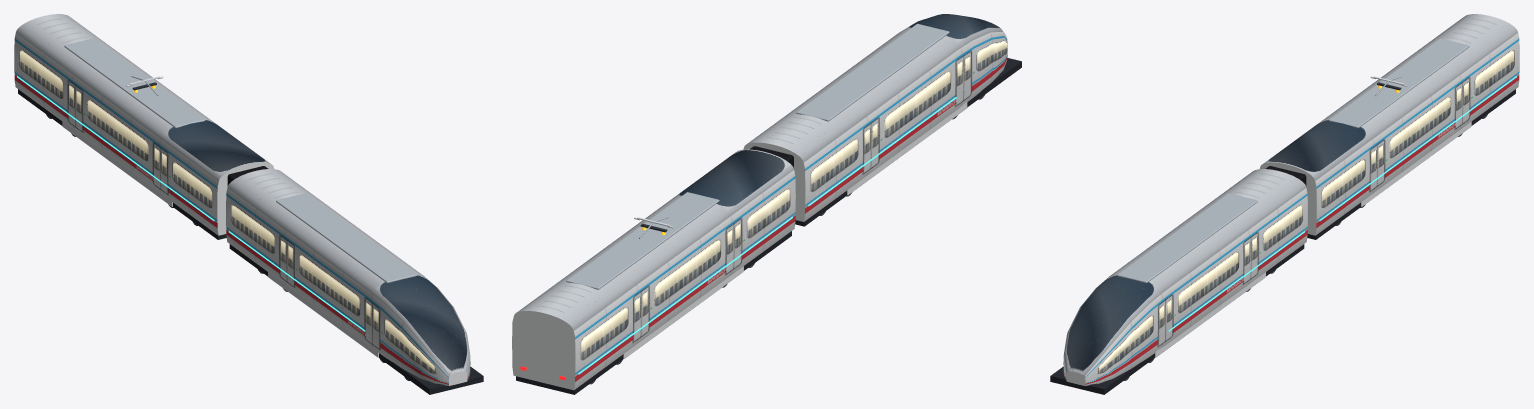
Rendered from train_modern.glb.
3 views of the same model, side by side, from view 1: azimuth 30°, elevation 25°; view 2: azimuth 150°, elevation 25°; view 3: azimuth 330°, elevation 25° (orthographic). The views are drawn at different scales.
Visible parts, largest first — view 1: Train_modern_2_TrainSide_modern, Train_modern_2_TrainRoof_modern, Train_modern_2_TrainMetal, Train_modern_2_TrainBody_modern, Train_modern_2_TrainDark, Train_modern_2_TrainAccent_modern; view 2: Train_modern_2_TrainSide_modern, Train_modern_2_TrainRoof_modern, Train_modern_2_TrainMetal, Train_modern_2_TrainBody_modern, Train_modern_2_TrainDark, Train_modern_2_TrainAccent_modern; view 3: Train_modern_2_TrainSide_modern, Train_modern_2_TrainRoof_modern, Train_modern_2_TrainMetal, Train_modern_2_TrainBody_modern, Train_modern_2_TrainDark, Train_modern_2_TrainAccent_modern.
Part boxes in pixels (bbox=[...]): Train_modern_2_TrainSide_modern: bbox=[14, 33, 470, 385]; Train_modern_2_TrainRoof_modern: bbox=[16, 14, 469, 375]; Train_modern_2_TrainMetal: bbox=[64, 38, 416, 283]; Train_modern_2_TrainBody_modern: bbox=[62, 121, 467, 385]; Train_modern_2_TrainDark: bbox=[18, 89, 483, 394]; Train_modern_2_TrainAccent_modern: bbox=[17, 76, 365, 331]; Train_modern_2_TrainSide_modern: bbox=[573, 32, 1007, 389]; Train_modern_2_TrainRoof_modern: bbox=[516, 14, 1005, 330]; Train_modern_2_TrainMetal: bbox=[566, 23, 949, 289]; Train_modern_2_TrainBody_modern: bbox=[512, 101, 967, 390]; Train_modern_2_TrainDark: bbox=[516, 58, 1021, 394]; Train_modern_2_TrainAccent_modern: bbox=[578, 97, 956, 374]; Train_modern_2_TrainSide_modern: bbox=[1063, 33, 1519, 385]; Train_modern_2_TrainRoof_modern: bbox=[1064, 14, 1517, 375]; Train_modern_2_TrainMetal: bbox=[1117, 38, 1469, 283]; Train_modern_2_TrainBody_modern: bbox=[1066, 121, 1471, 385]; Train_modern_2_TrainDark: bbox=[1050, 89, 1515, 394]; Train_modern_2_TrainAccent_modern: bbox=[1168, 76, 1516, 331].
Bounding box in the file's own units: 2.35 × 3.38 × 28.66.
Materials: 13 (2 with a texture image).
